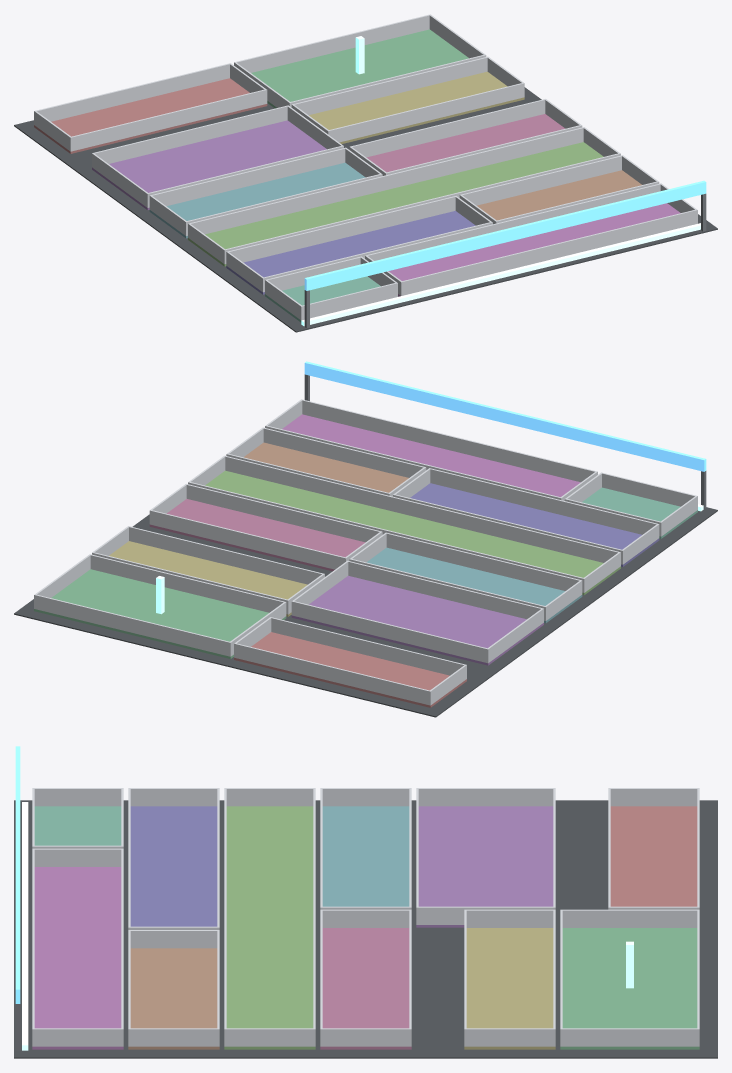
The model's file is hall-riggers.glb.
3 views of the same model, one above another, from view 1: azimuth 30°, elevation 25°; view 2: azimuth 150°, elevation 25°; view 3: azimuth 270°, elevation 25° (orthographic). The views are drawn at different scales.
Parts seen in each view (by area): view 1: Riggers & Signalpersons; view 2: Riggers & Signalpersons; view 3: Riggers & Signalpersons.
Boxes of the visible parts, x1,y1,x2,y2 form: Riggers & Signalpersons: (14,14,717,332); Riggers & Signalpersons: (14,361,717,717); Riggers & Signalpersons: (14,746,717,1058).
Bounding box in the file's own units: 38 × 4.3 × 44.
